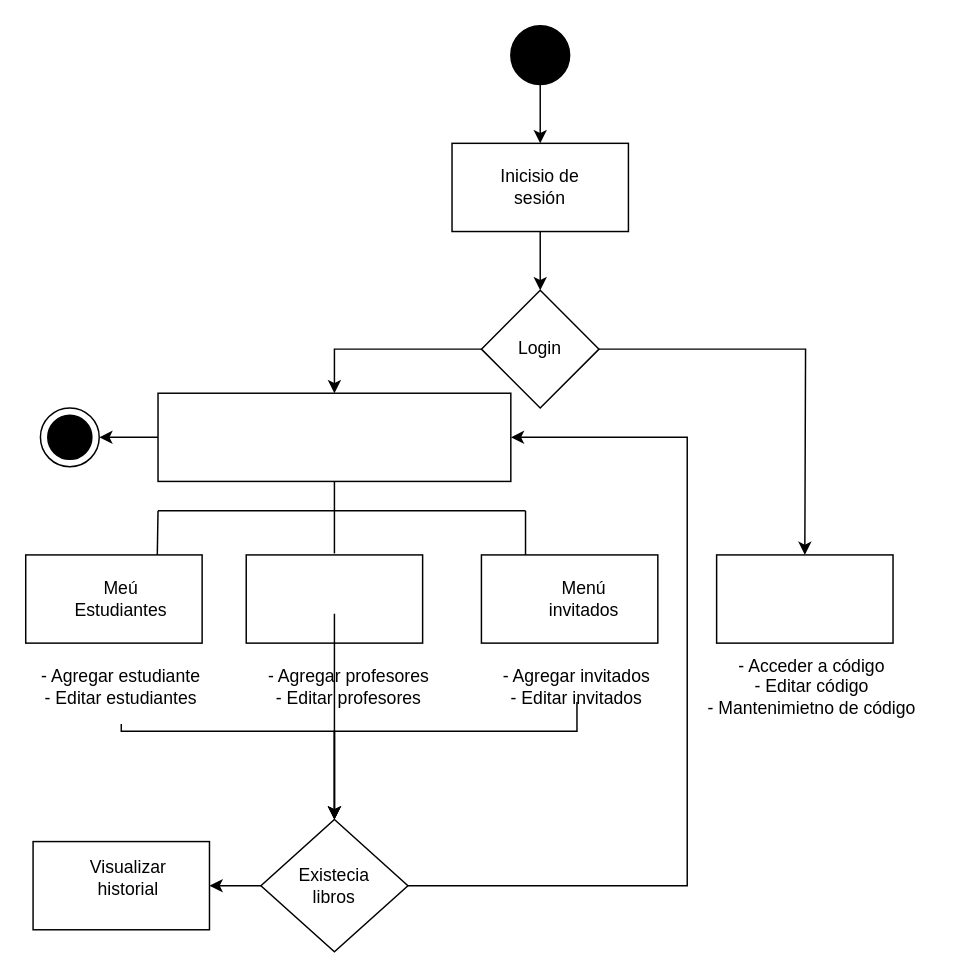
Some shapes in this 956 by 978 pixel diagram are drawn without their labels. Here are the shapes that lost their labels. From the top down, the centre of each, then its label:
At (x=334, y=436): "Página de inicio".
At (x=334, y=598): "Menú Profesores".
At (x=804, y=598): "Menú Programador".
